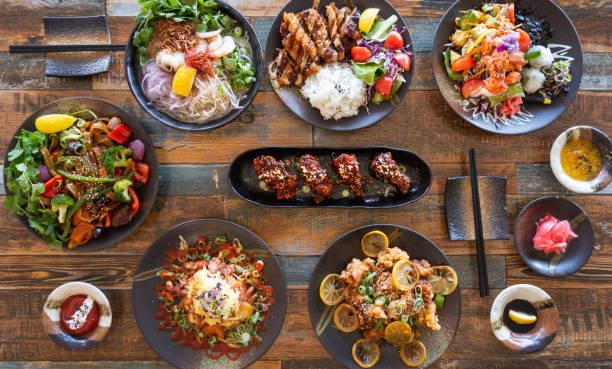Braised Crucian Carp: (2, 96, 158, 248), (133, 218, 283, 367), (307, 222, 457, 367), (431, 0, 582, 135), (262, 1, 408, 133), (123, 2, 256, 131), (225, 143, 440, 208)
